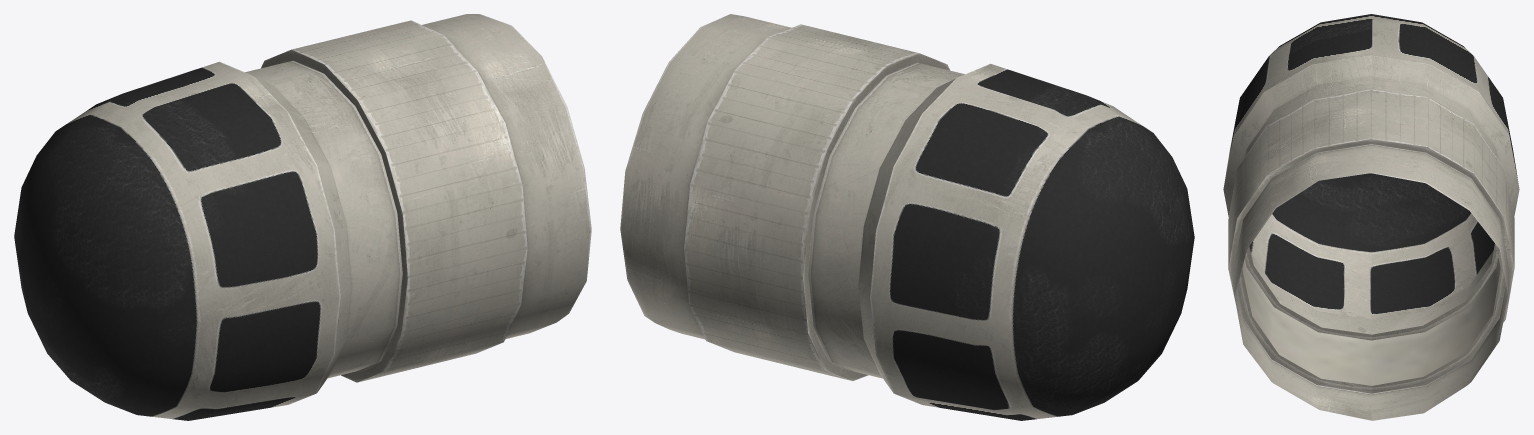
The model's file is pommel_12_c_d.glb.
3 views of the same model, side by side, from view 1: azimuth 30°, elevation 25°; view 2: azimuth 150°, elevation 25°; view 3: azimuth 270°, elevation 25° (orthographic). The views are drawn at different scales.
Parts seen in each view (by area): view 1: pommel_12_c_d_lod0; view 2: pommel_12_c_d_lod0; view 3: pommel_12_c_d_lod0.
Part boxes in pixels (x1=…): pommel_12_c_d_lod0: x1=14, y1=14, x2=591, y2=420; pommel_12_c_d_lod0: x1=620, y1=14, x2=1194, y2=420; pommel_12_c_d_lod0: x1=1223, y1=14, x2=1519, y2=420.
Size of what is drawn, in the model's own units: 0.0482 by 0.031 by 0.031.
1 material, 1 textured.
